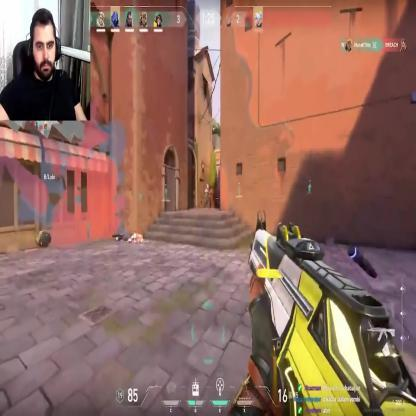enemy: (204, 182, 210, 209)
enemy_head: (206, 182, 209, 190)
